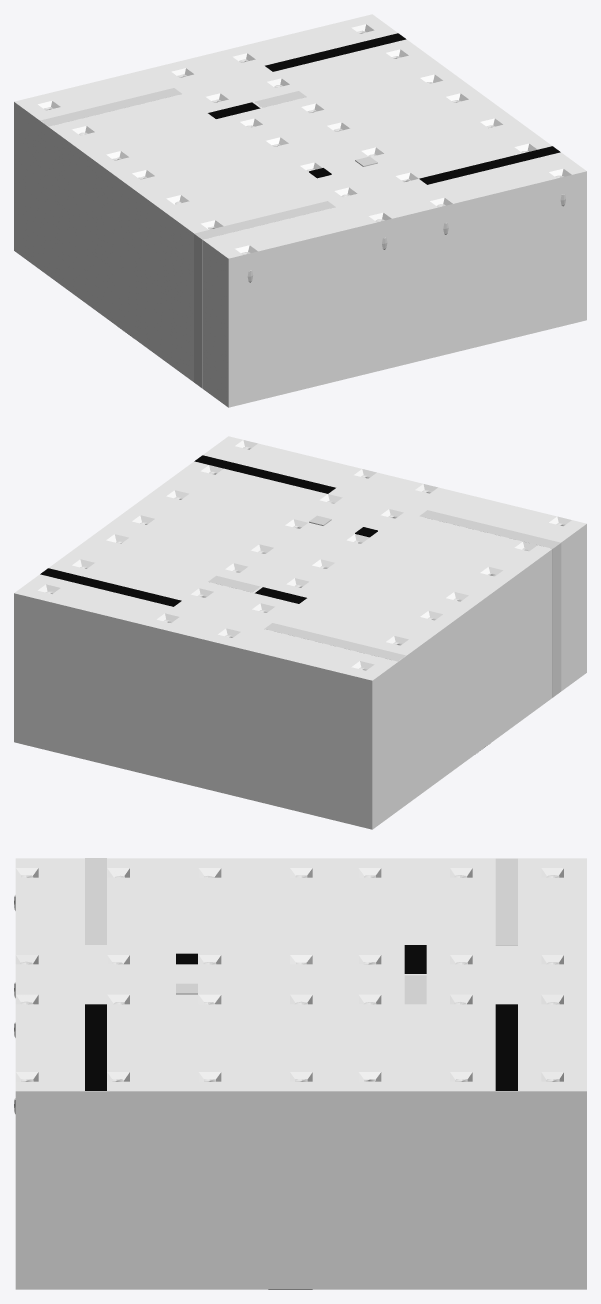
Rendered from level1.fbx.
3 renders of one model, top to bottom at view 1: azimuth 30°, elevation 25°; view 2: azimuth 150°, elevation 25°; view 3: azimuth 270°, elevation 25°, orthographic. The views are drawn at different scales.
Visible parts, largest first — view 1: OuterLevel, R8V, L8I, R1V, L1I; view 2: OuterLevel, R8V, L8I, L1I, R1V; view 3: OuterLevel, R1V, L1I, L8I, R8V, L2V, R2I.
Boxes of the visible parts, <box> form: OuterLevel: <box>14,14,586,407</box>; R8V: <box>194,201,335,388</box>; L8I: <box>419,146,560,184</box>; R1V: <box>40,88,181,126</box>; L1I: <box>265,33,406,71</box>; OuterLevel: <box>14,436,586,829</box>; R8V: <box>419,510,561,697</box>; L8I: <box>194,455,335,493</box>; L1I: <box>40,568,181,606</box>; R1V: <box>264,623,405,661</box>; OuterLevel: <box>15,858,586,1289</box>; R1V: <box>495,858,517,945</box>; L1I: <box>495,1004,517,1090</box>; L8I: <box>85,1004,106,1090</box>; R8V: <box>85,858,106,944</box>; L2V: <box>404,975,426,1004</box>; R2I: <box>404,945,426,973</box>.
Bounding box in the file's own units: 14.42 × 5.78 × 14.98.
